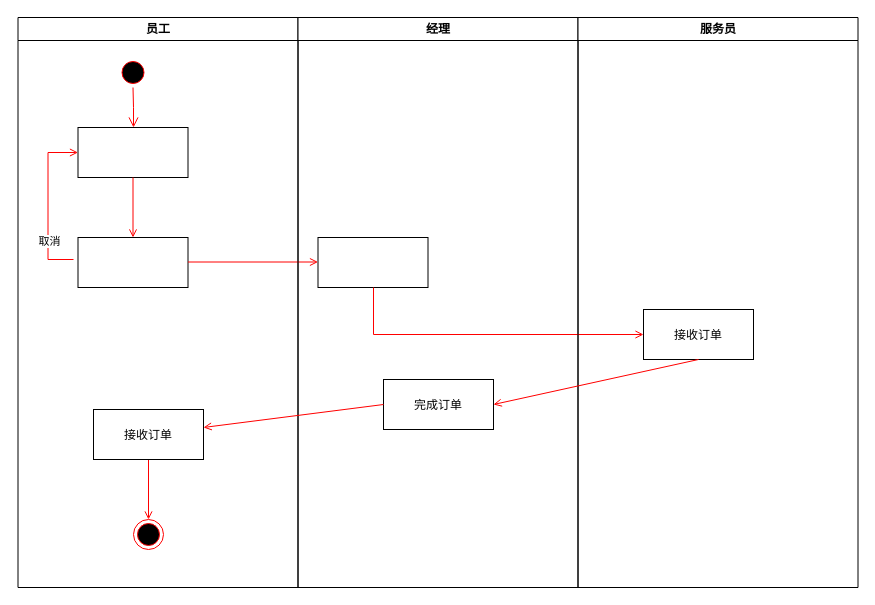
Some shapes in this 875 by 605 pixel diagram are drawn without their labels. The shapes that lost their labels are listed below. From the top down, each one's centre as x and y in pixels, then its label:
At [132,152]: "下订单".
At [132,262]: "确认".
At [372,262]: "分配订单".
